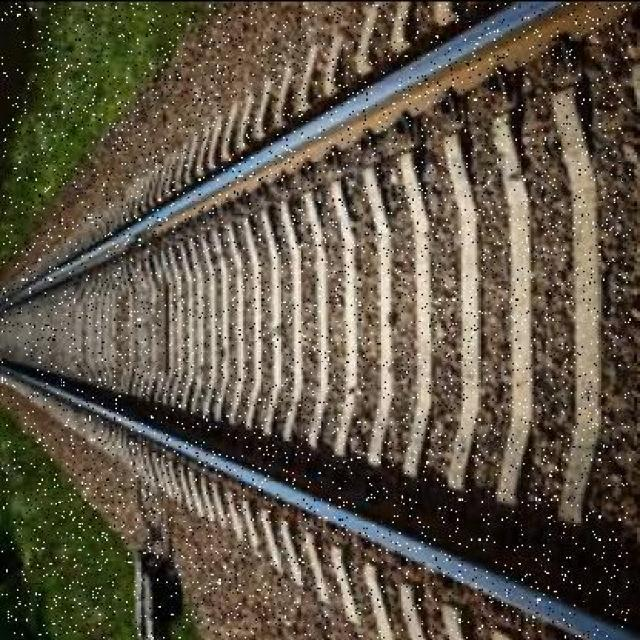rail: (3, 3, 632, 638)
